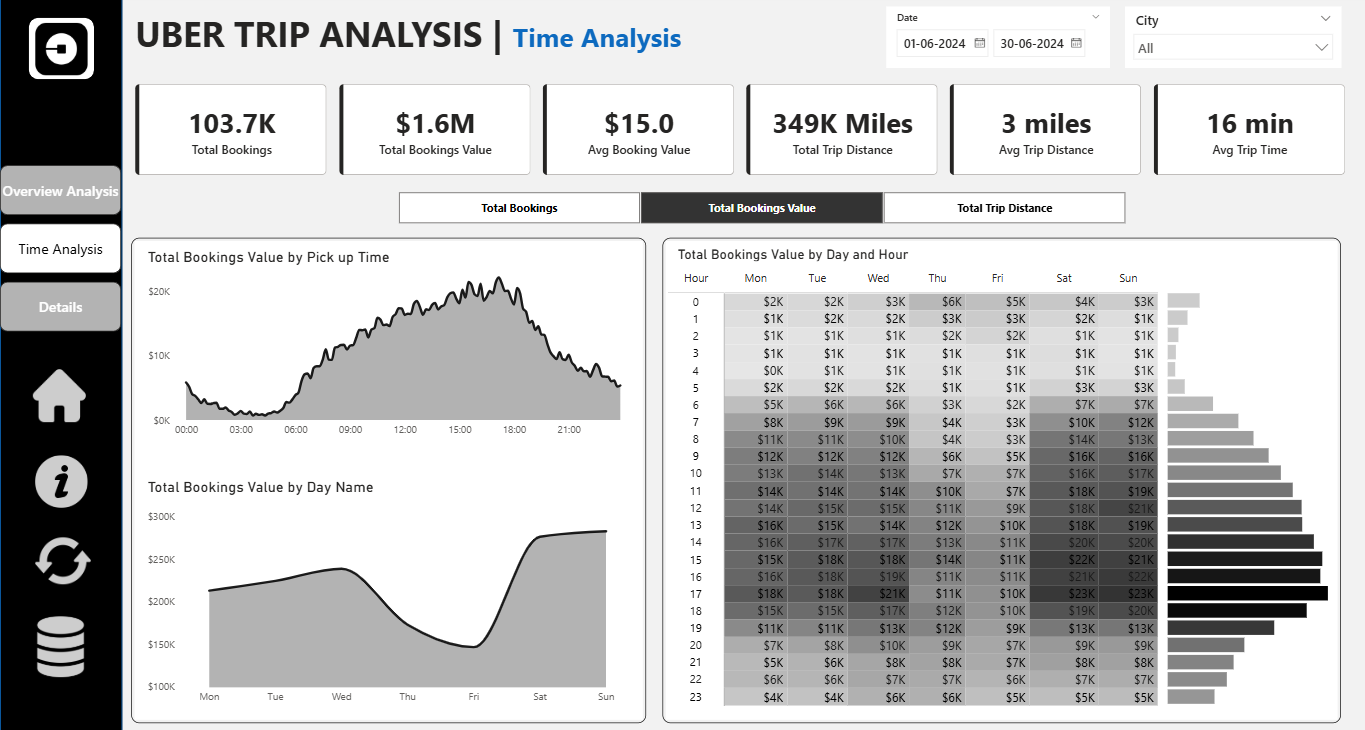

Layout of this report page (visuals, bound fields, positions):
{"tool":"powerbi","page":{"name":"Time Analysis","canvas":[1670,900],"ordinal":1},"visuals":[{"type":"shape","box":[0,0,149.6,900.5],"z":0},{"type":"shape","box":[160.6,291.2,629.7,593.5],"z":1000},{"type":"cardVisual","fields":{"Data":["Trip Details.Total Bookings","Trip Details.Total Bookings Value","Trip Details.Average Booking Value","Trip Details.Total Trip Distance","Trip Details.Average Trip Distance","Trip Details.Average Trip Time"]},"box":[160.6,99.2,1489.3,121.2],"z":2000},{"type":"slicer","fields":{"Values":["Calender Table.Date"]},"box":[1083.1,9.4,273.9,75.6],"z":3000},{"type":"slicer","fields":{"Values":["Location Table.City"]},"box":[1375.9,9.4,264.5,75.6],"z":4000},{"type":"textbox","box":[160.6,7.9,859.6,77.1],"z":5000},{"type":"slicer","fields":{"Values":["Dynamic Measure.Dynamic Measure"]},"box":[461.3,229,938.3,52],"z":6000},{"type":"areaChart","title":"Total Bookings Value by Pick up Time ","fields":{"Y":["Trip Details.Total Bookings Value"],"Category":["Trip Details.Pick up Time (HH MM SS) (bins)"]},"box":[176.3,303.8,603,240.9],"z":7000},{"type":"cardVisual","fields":{"Data":["Trip Details.Dynamic For Pick up time"]},"box":[163.7,280.2,381,59.8],"z":8000},{"type":"areaChart","fields":{"Y":["Trip Details.Total Bookings Value"],"Category":["Calender Table.Day Name"]},"box":[176.3,618.7,603,251.9],"z":9000},{"type":"cardVisual","fields":{"Data":["Trip Details.Dynamic title by day"]},"box":[163.7,560.4,381,55.1],"z":10000},{"type":"shape","box":[810.8,291.2,829.6,593.5],"z":11000},{"type":"pivotTable","fields":{"Values":["Trip Details.Total Bookings Value"],"Rows":["Trip Details.pick up Hour"],"Columns":["Calender Table.Day Name"]},"box":[811.7,325.3,805.5,574.7],"z":12000},{"type":"barChart","fields":{"Y":["Trip Details.Total Bookings Value"],"Category":["Trip Details.pick up Hour"]},"box":[1422.4,347,247.6,541.1],"z":13000},{"type":"cardVisual","fields":{"Data":["Trip Details.Dynamic title for heat map"]},"box":[811.7,276.7,380.6,67.3],"z":14000},{"type":"pageNavigator","box":[0,203.7,148.8,203.7],"z":15000},{"type":"shape","box":[34.5,23.5,79.9,75.2],"z":16000},{"type":"image","box":[34.5,25.1,79.9,73.6],"z":17000},{"type":"image","box":[30.6,447.9,84.1,74.9],"z":18000},{"type":"image","box":[37.6,553,73.6,73.6],"z":19000},{"type":"image","box":[38.2,645,78,84.1],"z":20000},{"type":"image","box":[32.1,742.9,84.1,97.8],"z":21000}]}

Visuals, with their boxes on the page's 1670x900 design canvas (x1, y1, x2, y2). These are canvas units, not pixel positions in the 1365x730 screenshot, which may show the page scaled, cropped or inside an application window:
shape: select_region(0, 0, 150, 900)
shape: select_region(161, 291, 790, 885)
cardVisual - Trip Details.Total Bookings x Trip Details.Total Bookings Value: select_region(161, 99, 1650, 220)
slicer - Calender Table.Date: select_region(1083, 9, 1357, 85)
slicer - Location Table.City: select_region(1376, 9, 1640, 85)
textbox: select_region(161, 8, 1020, 85)
slicer - Dynamic Measure.Dynamic Measure: select_region(461, 229, 1400, 281)
"Total Bookings Value by Pick up Time " areaChart: select_region(176, 304, 779, 545)
cardVisual - Trip Details.Dynamic For Pick up time: select_region(164, 280, 545, 340)
areaChart - Trip Details.Total Bookings Value x Calender Table.Day Name: select_region(176, 619, 779, 871)
cardVisual - Trip Details.Dynamic title by day: select_region(164, 560, 545, 616)
shape: select_region(811, 291, 1640, 885)
pivotTable - Trip Details.Total Bookings Value x Trip Details.pick up Hour: select_region(812, 325, 1617, 900)
barChart - Trip Details.Total Bookings Value x Trip Details.pick up Hour: select_region(1422, 347, 1670, 888)
cardVisual - Trip Details.Dynamic title for heat map: select_region(812, 277, 1192, 344)
pageNavigator: select_region(0, 204, 149, 407)
shape: select_region(34, 24, 114, 99)
image: select_region(34, 25, 114, 99)
image: select_region(31, 448, 115, 523)
image: select_region(38, 553, 111, 627)
image: select_region(38, 645, 116, 729)
image: select_region(32, 743, 116, 841)
